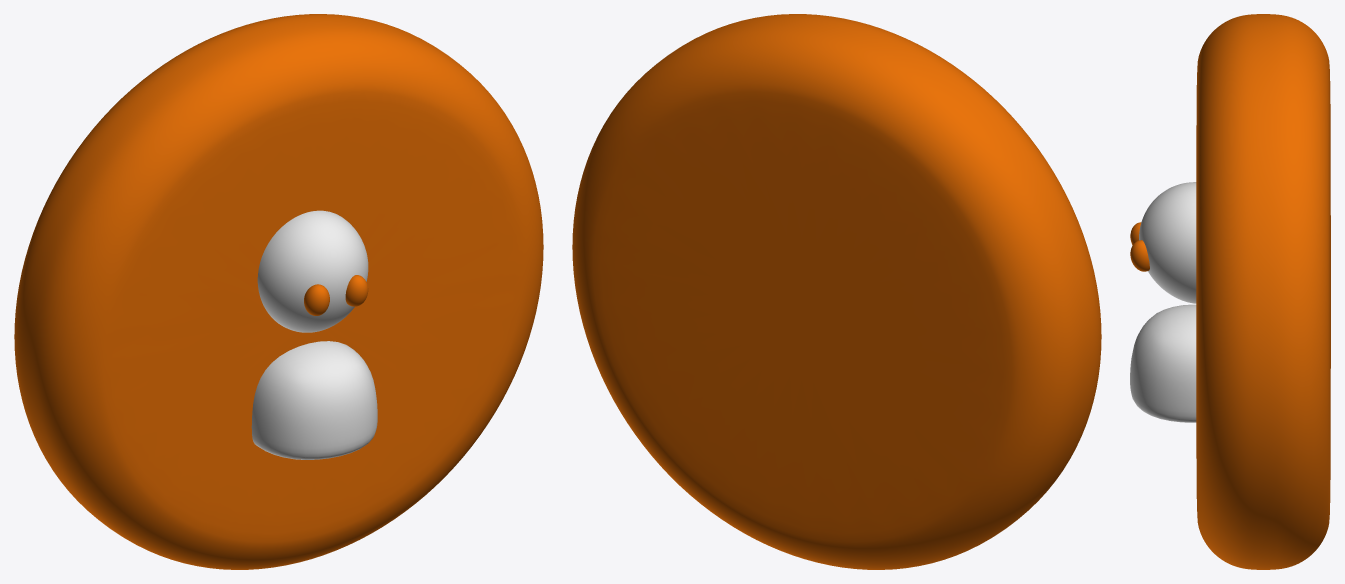
The model's file is access-to-contact-denied-animated-3d-icon-1461587561020.glb.
3 renders of one model, left to right at view 1: azimuth 30°, elevation 25°; view 2: azimuth 150°, elevation 25°; view 3: azimuth 270°, elevation 25°, orthographic. The views are drawn at different scales.
Parts seen in each view (by area): view 1: Base.014, Body, Head.001, Eyes.001; view 2: Base.014; view 3: Base.014, Body, Head.001, Eyes.001.
Part boxes in pixels (x1,y1,x2,y2): Base.014: (14,14,543,569); Body: (251,341,377,459); Head.001: (257,210,368,332); Eyes.001: (304,275,368,315); Base.014: (572,14,1101,569); Base.014: (1196,14,1330,569); Body: (1130,304,1196,422); Head.001: (1139,182,1196,303); Eyes.001: (1130,222,1149,271).
Bounding box in the file's own units: 2.38 × 2.38 × 0.8614.
